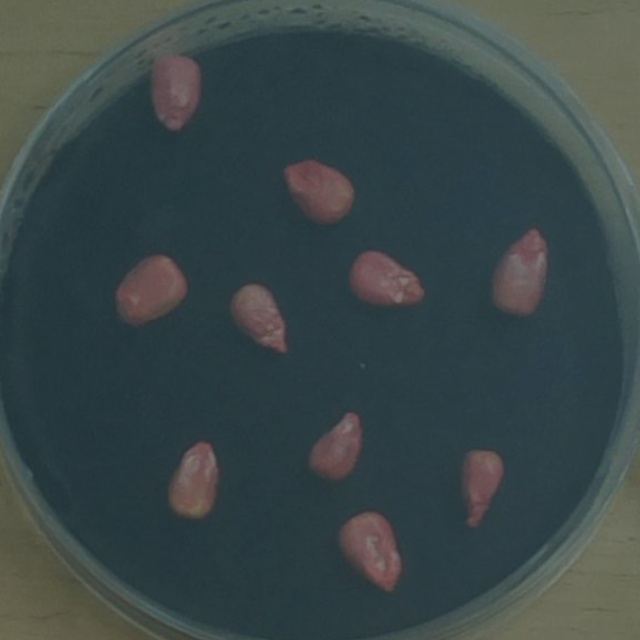Zea mays: (326, 503, 409, 601), (105, 247, 194, 337), (482, 222, 557, 326), (274, 151, 363, 233), (342, 241, 433, 315), (221, 275, 295, 363), (142, 46, 210, 140), (158, 434, 226, 528), (453, 441, 514, 540), (299, 406, 368, 490)
